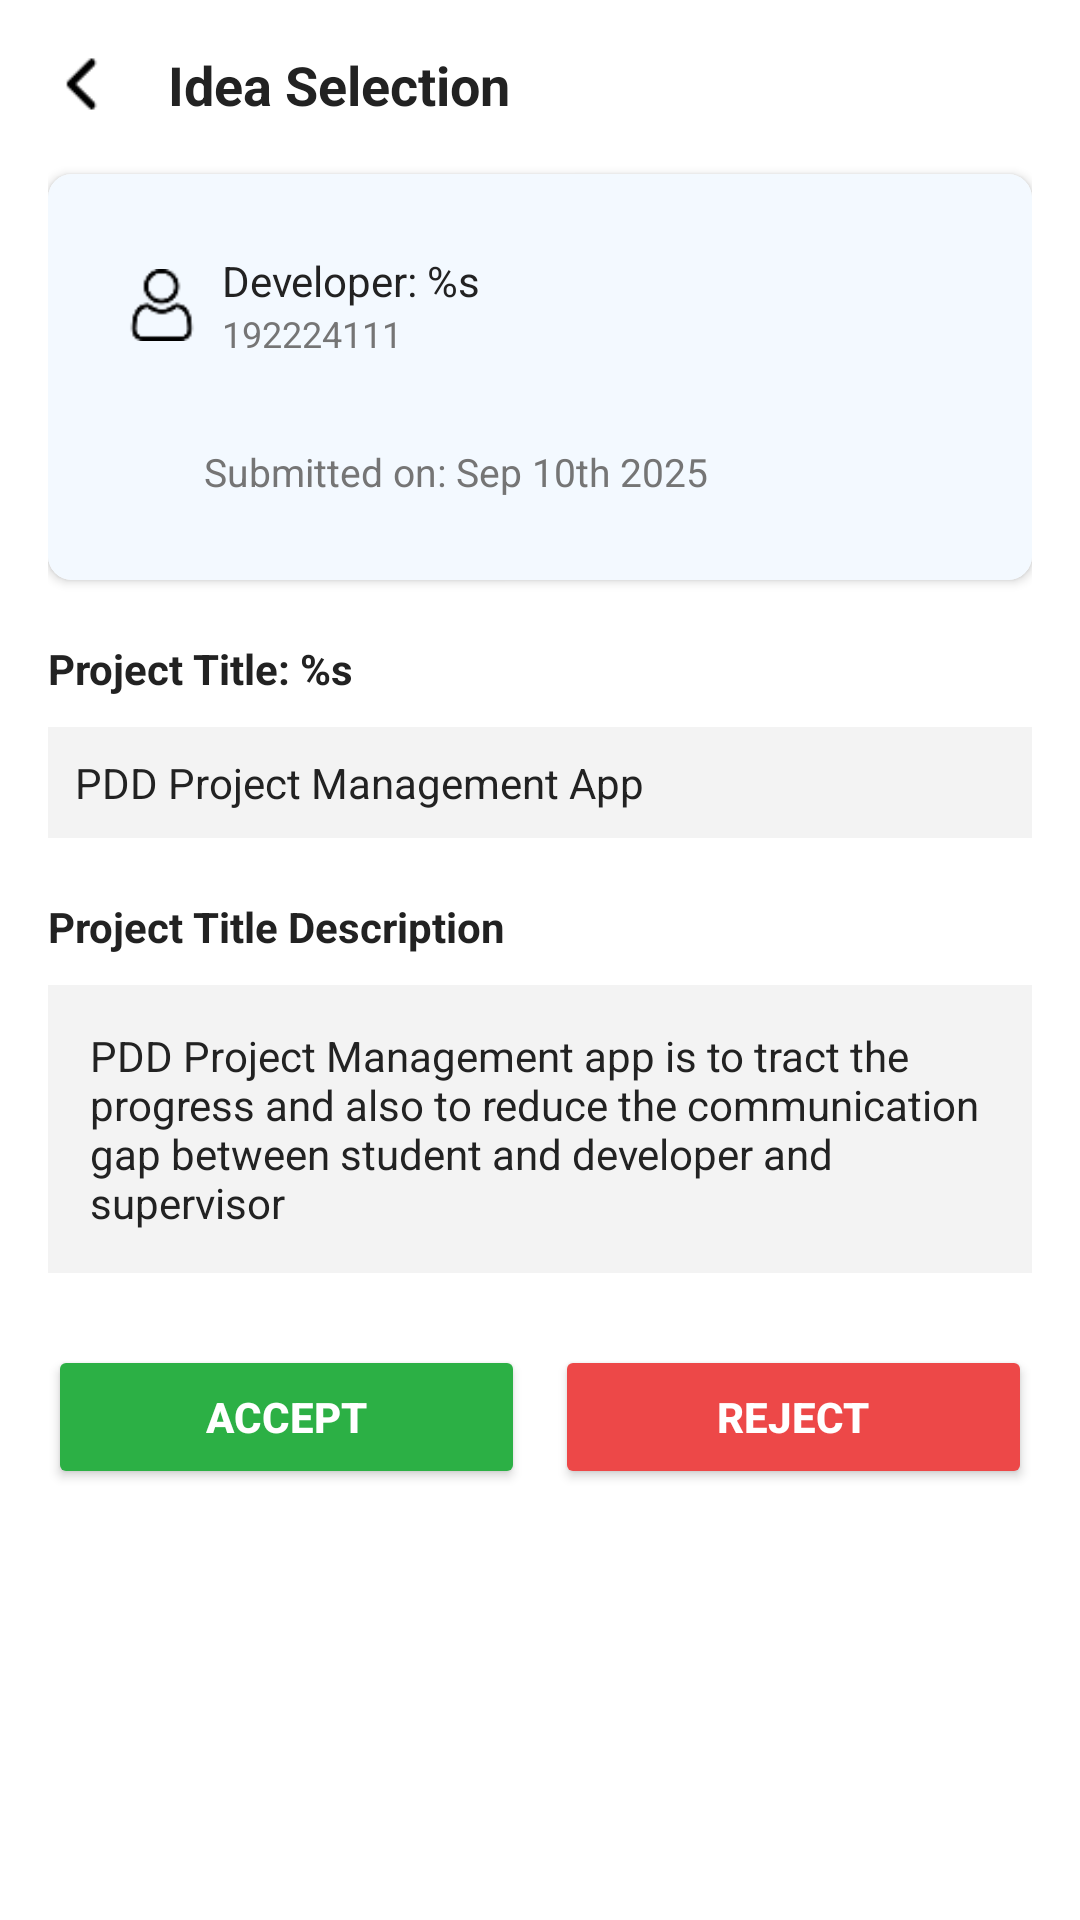

Locate icon controls on the screen. Image size 1080px×1920px, boxes as (x1, y1, x2, y2).
Back arrow: (66, 58, 97, 110)
